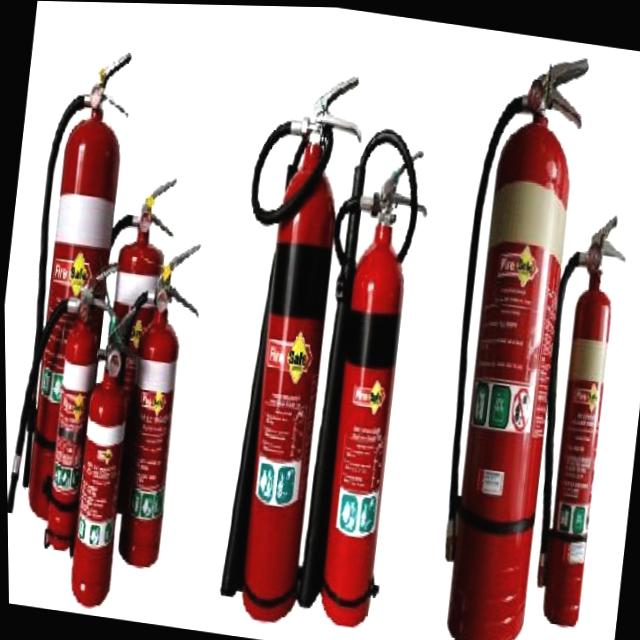FireExtinguisher: (413, 36, 600, 640), (194, 49, 376, 630), (281, 114, 442, 632), (0, 39, 142, 530), (511, 189, 636, 632), (50, 157, 186, 519), (81, 219, 210, 576), (3, 244, 130, 563), (49, 288, 159, 618)
